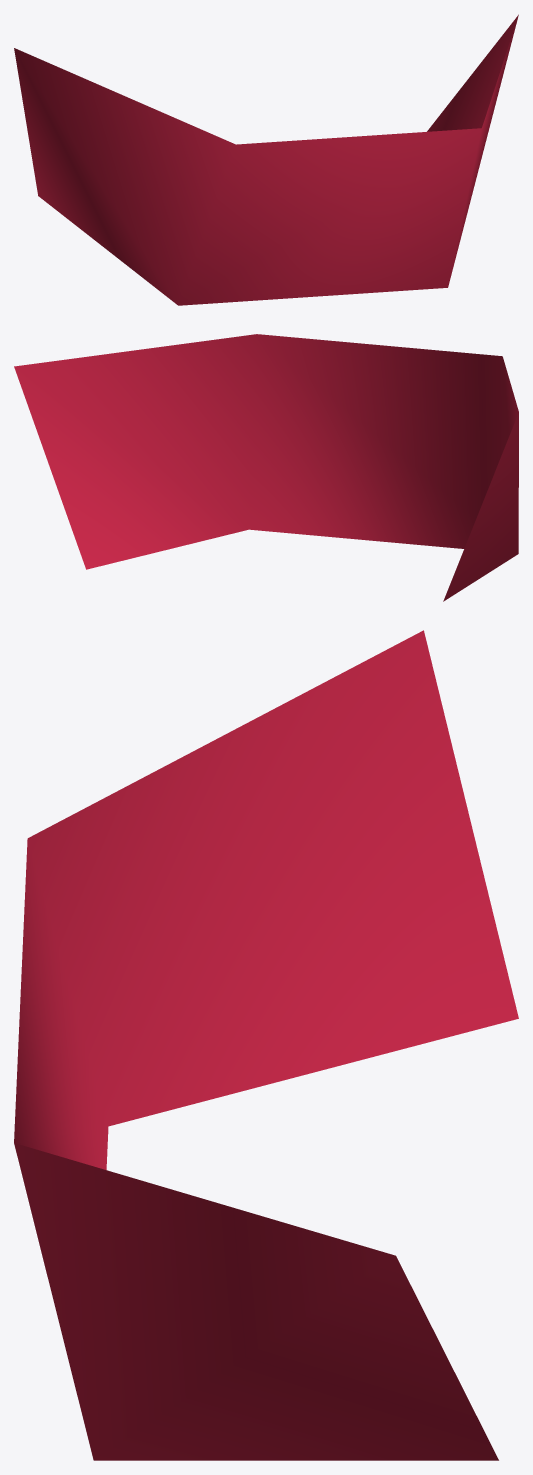
3 renders of one model, top to bottom at view 1: azimuth 30°, elevation 25°; view 2: azimuth 150°, elevation 25°; view 3: azimuth 270°, elevation 25°, orthographic. The views are drawn at different scales.
Visible parts, largest first — view 1: ef_422; view 2: ef_422; view 3: ef_422.
Part boxes in pixels (x1,y1,x2,y2): ef_422: (14, 14, 518, 305); ef_422: (14, 334, 518, 601); ef_422: (14, 630, 518, 1460).
Size of the model in its own units: 0.9994 by 0.5029 by 0.4569.
1 material, 1 textured.
